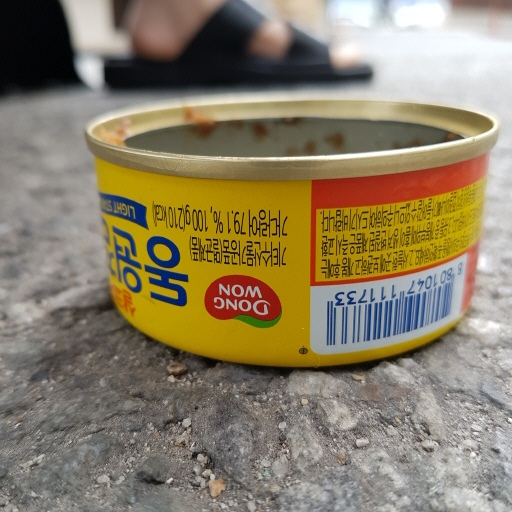Metal_1: (82, 97, 499, 370)
